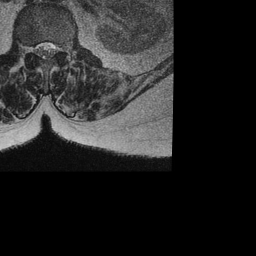CCS_normal: (42, 32, 50, 68)
LFS_normal: (57, 33, 65, 61)
LLS_normal: (50, 33, 58, 63)
RFS_normal: (26, 35, 34, 60)
RLS_normal: (34, 35, 42, 63)
